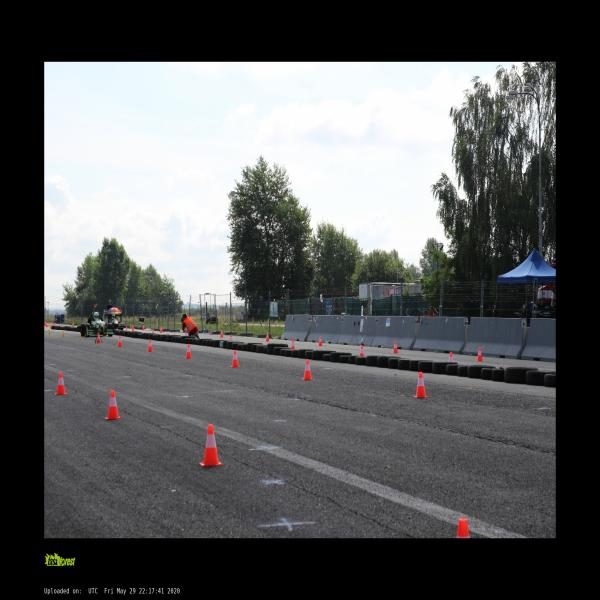orange_cone: (200, 424, 223, 467), (446, 518, 477, 538), (105, 390, 122, 420), (413, 372, 429, 398), (55, 372, 67, 396), (301, 359, 314, 380), (230, 351, 240, 368), (446, 352, 455, 370), (184, 344, 192, 359), (476, 347, 484, 362), (358, 345, 365, 358), (392, 342, 399, 354), (147, 339, 153, 352), (96, 333, 102, 344), (117, 336, 123, 346), (290, 340, 296, 350), (318, 336, 323, 346), (265, 332, 270, 341), (220, 330, 224, 338), (184, 331, 188, 339), (159, 327, 163, 333), (142, 325, 145, 330), (72, 322, 75, 327), (132, 325, 134, 331), (126, 326, 128, 332), (230, 334, 232, 340), (46, 322, 48, 327), (152, 328, 154, 333), (44, 321, 46, 326), (53, 324, 55, 328), (52, 323, 53, 328), (55, 323, 56, 327)
unknown_cone: (78, 333, 82, 340), (62, 331, 65, 337), (48, 329, 51, 335), (130, 325, 132, 329), (49, 324, 51, 327), (51, 325, 52, 329)
